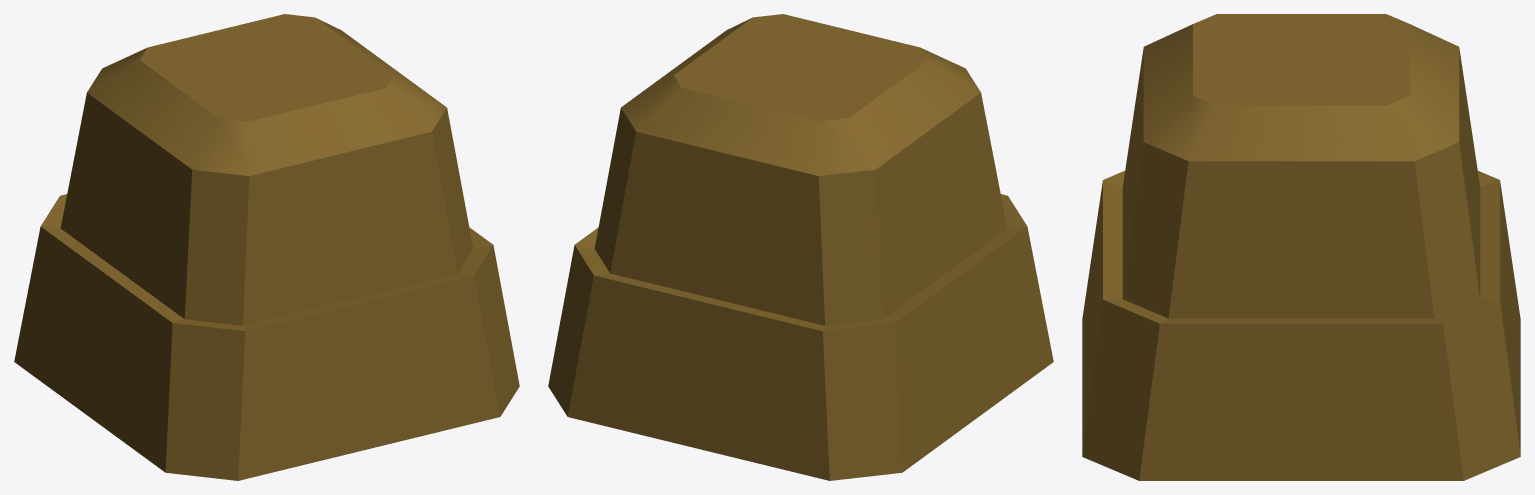
The model's file is Block.fbx.
The picture shows the model from 3 angles, left to right: view 1: azimuth 30°, elevation 25°; view 2: azimuth 150°, elevation 25°; view 3: azimuth 270°, elevation 25°; orthographic projection. The views are drawn at different scales.
Visible parts, largest first — view 1: Cylinder.153; view 2: Cylinder.153; view 3: Cylinder.153.
Boxes of the visible parts, box(x1,y1,x2,y2) form: Cylinder.153: box(14, 14, 519, 480); Cylinder.153: box(548, 14, 1053, 480); Cylinder.153: box(1082, 14, 1520, 480).
Size of the model in its own units: 78.25 by 64.67 by 78.24.
